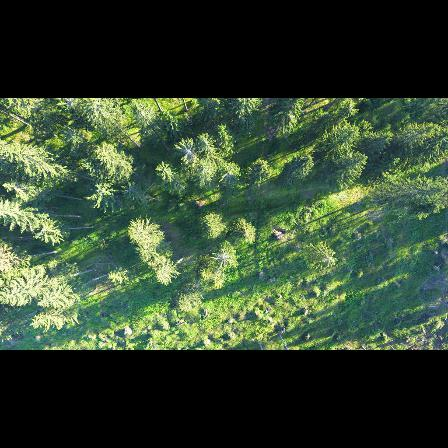Sick: (173, 141, 200, 162), (211, 246, 234, 269), (196, 134, 217, 155)
